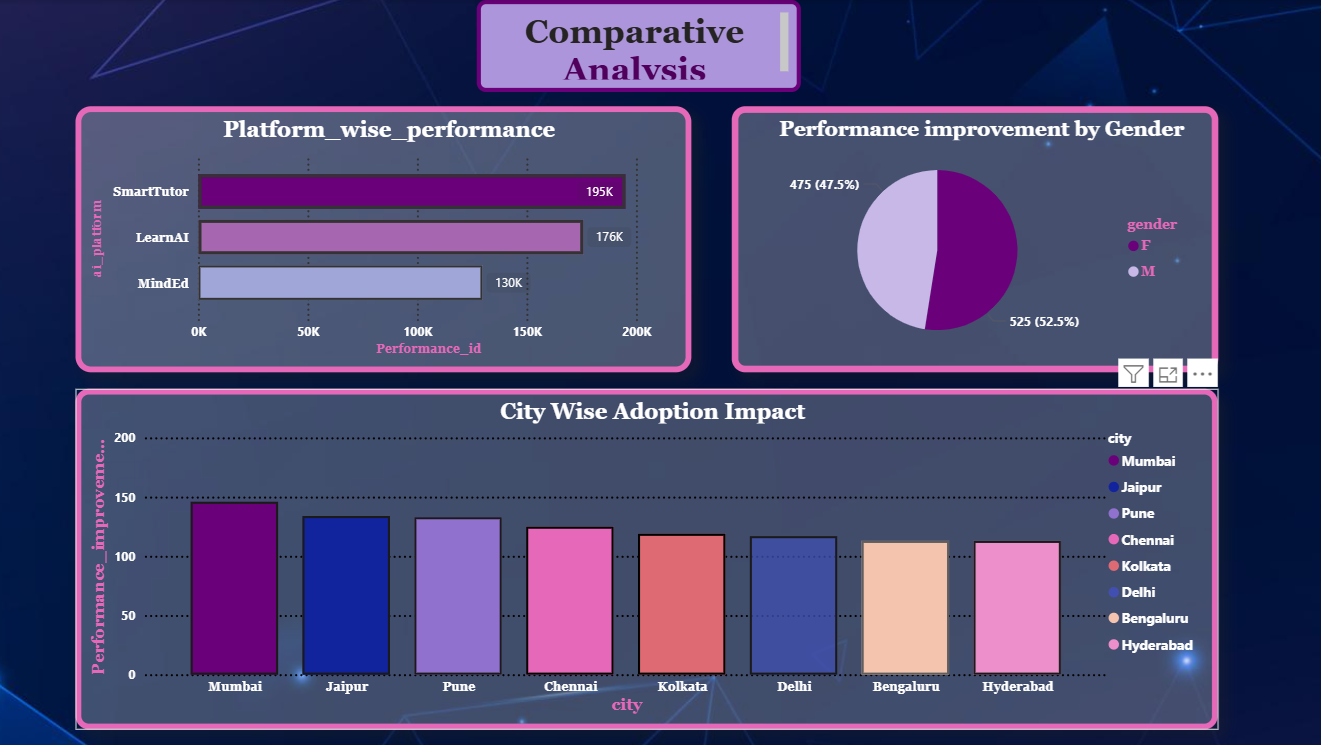

The page's visual inventory and layout, read from the dashboard file:
{"tool":"powerbi","page":{"name":"comparative_analysis","canvas":[1280,720],"ordinal":2},"visuals":[{"type":"textbox","box":[462.4,0,312.9,89.2],"z":0},{"type":"clusteredBarChart","title":"Platform_wise_performance","fields":{"Category":["colleges.ai_platform"],"Y":["Sum(performance.performance_id)"]},"box":[75,102.8,594.4,256.9],"z":1000},{"type":"pieChart","title":"Performance improvement by Gender","fields":{"Y":["CountNonNull(performance.Performance_improvement)"],"Category":["students.gender"]},"box":[708.3,102.8,469.4,256.9],"z":2000},{"type":"columnChart","title":"City Wise Adoption Impact","fields":{"Category":["colleges.city"],"Y":["CountNonNull(performance.Performance_improvement)"],"Series":["colleges.city"]},"box":[75,375,1102.8,329.2],"z":3000}]}

Visuals, with their boxes in screenshot pixels (x1, y1, x2, y2), scaled from the page's 1280x720 canvas onto the 1326x748 screenshot:
textbox: (left=479, top=0, right=803, bottom=93)
"Platform_wise_performance" clusteredBarChart: (left=78, top=107, right=693, bottom=374)
"Performance improvement by Gender" pieChart: (left=734, top=107, right=1220, bottom=374)
"City Wise Adoption Impact" columnChart: (left=78, top=390, right=1220, bottom=732)
